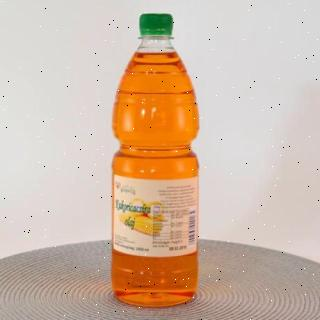Plastic-bottle: (105, 10, 206, 308)
